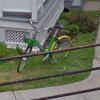Bicycle: (13, 9, 81, 77)
